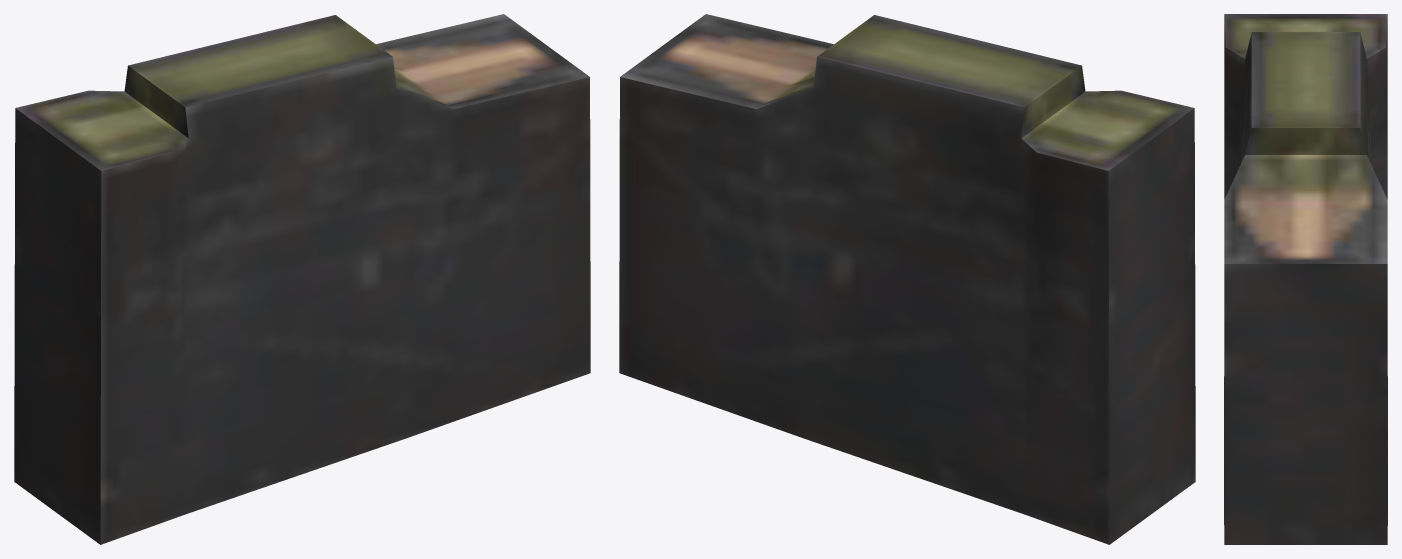
File: ST_WEP_M24_Mag.FBX
3 renders of one model, left to right at view 1: azimuth 30°, elevation 25°; view 2: azimuth 150°, elevation 25°; view 3: azimuth 270°, elevation 25°, orthographic. The views are drawn at different scales.
Visible parts, largest first — view 1: ST_WEP_M24_Mag; view 2: ST_WEP_M24_Mag; view 3: ST_WEP_M24_Mag.
Part boxes in pixels (x1,y1,x2,y2): ST_WEP_M24_Mag: (14,14,590,544); ST_WEP_M24_Mag: (619,14,1195,544); ST_WEP_M24_Mag: (1224,14,1387,544).
Size of the model in its own units: 6.01 by 4.72 by 1.83.
Materials: 1 (1 with a texture image).
